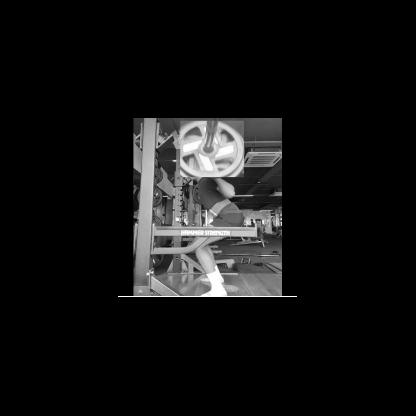barbell: (180, 121, 244, 178)
